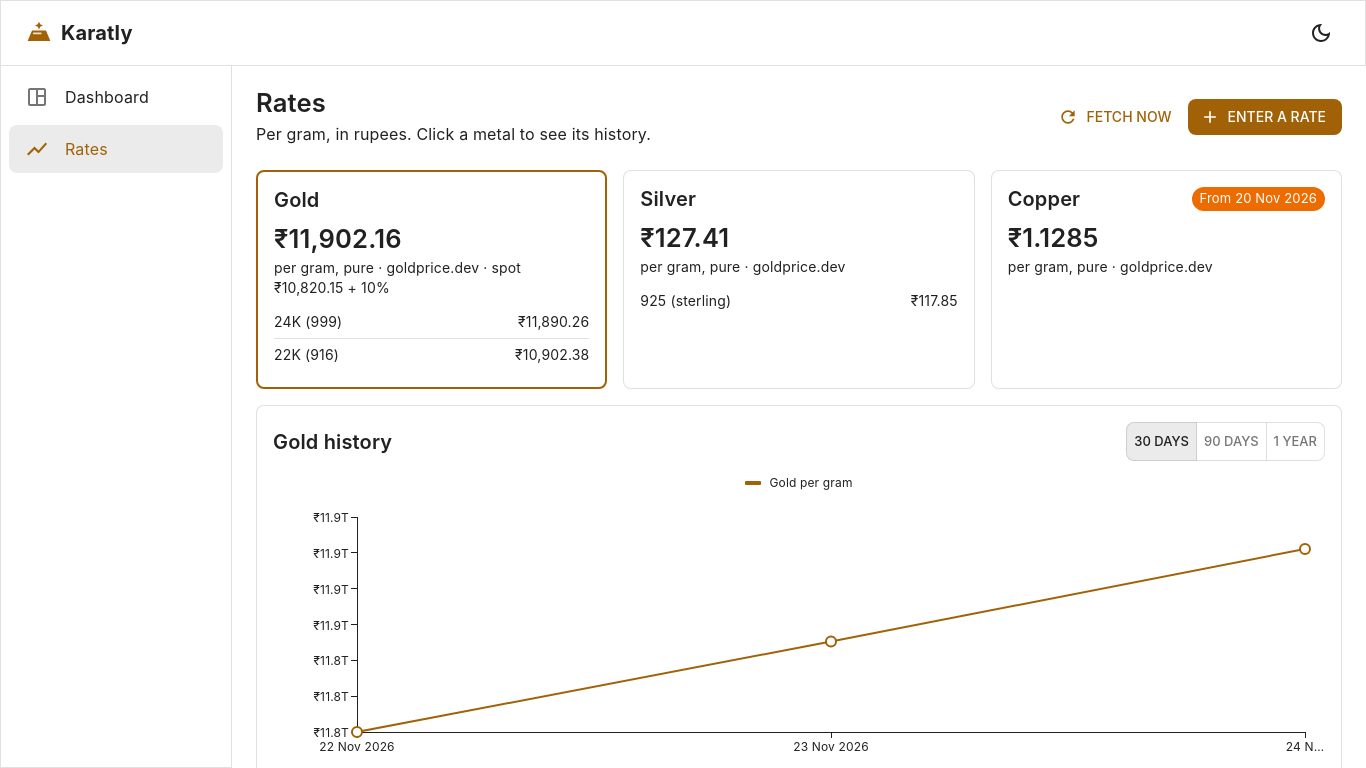
Scenario: Rates page › shows the field error the API returns for a manual rate
Click the button "Enter a rate".
click(1265, 117)  # box 1188,99 -> 1342,135
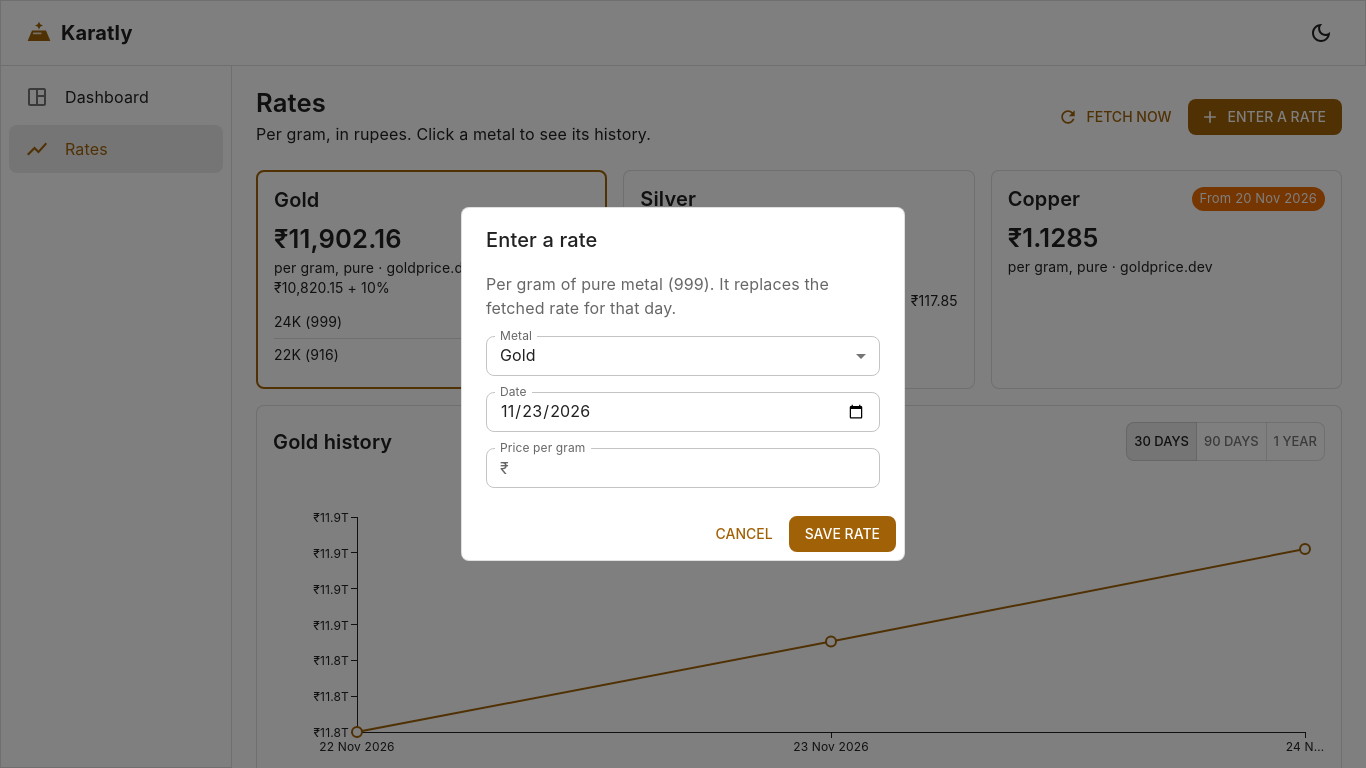
Type "5" into the field labelled "Price per gram".
click(698, 468); type("5")  # box 517,448 -> 880,488
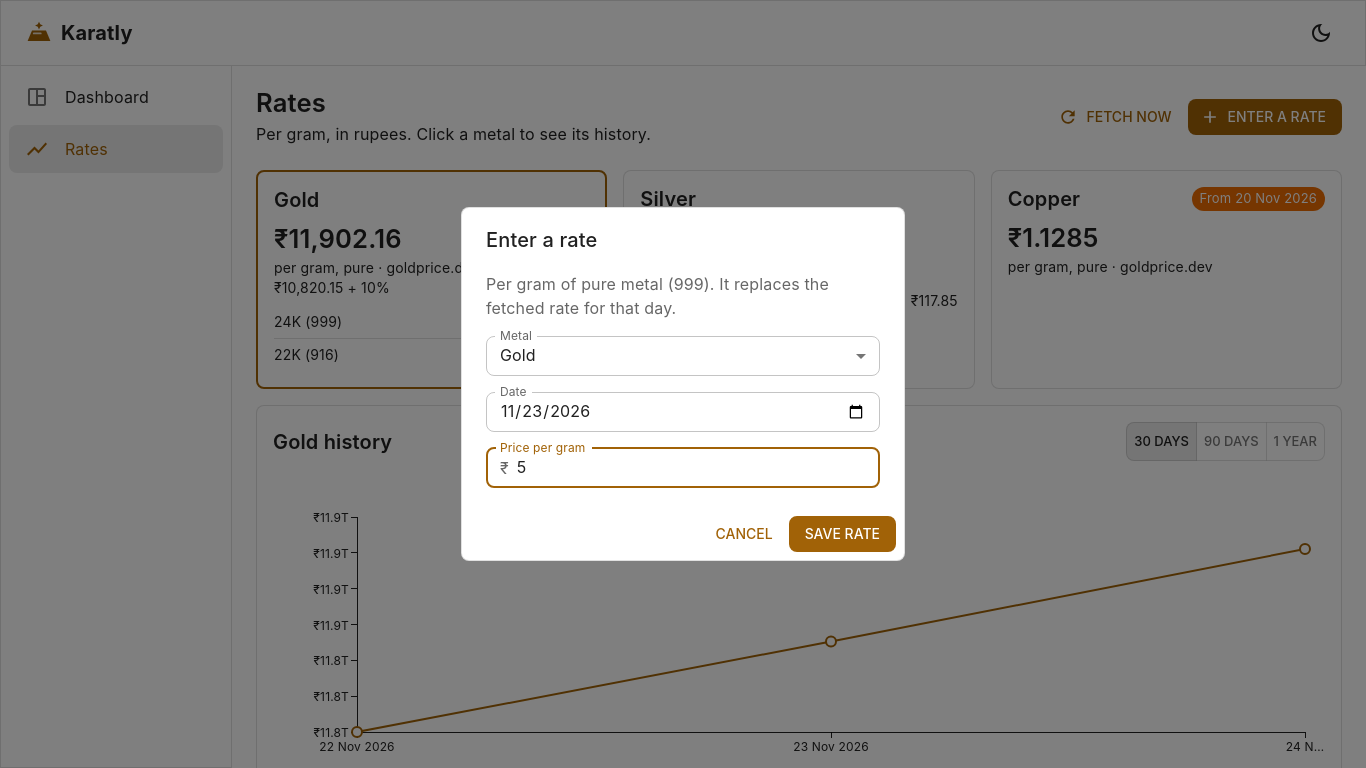
Click the button "Save rate".
click(842, 534)  # box 789,516 -> 896,552
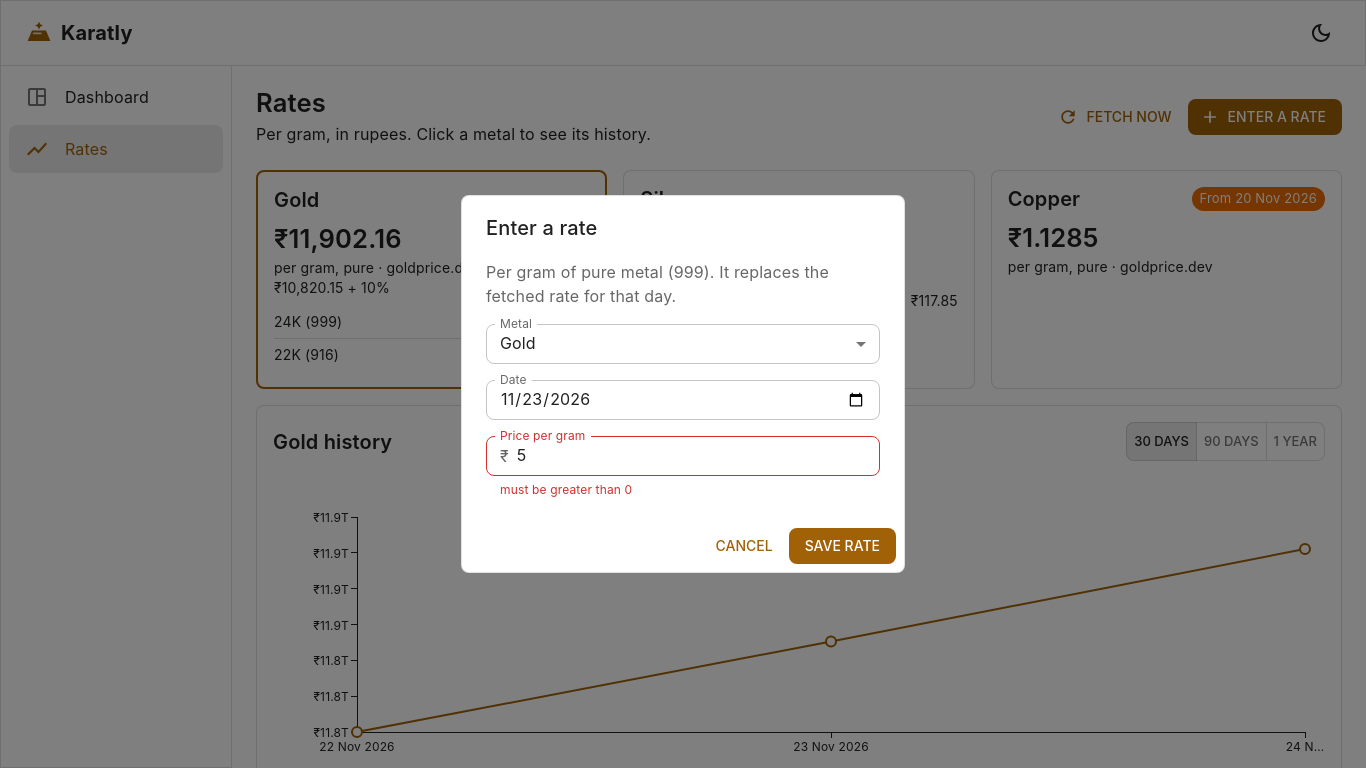
Now the text "must be greater than 0" is shown, box 500,482 -> 632,497
